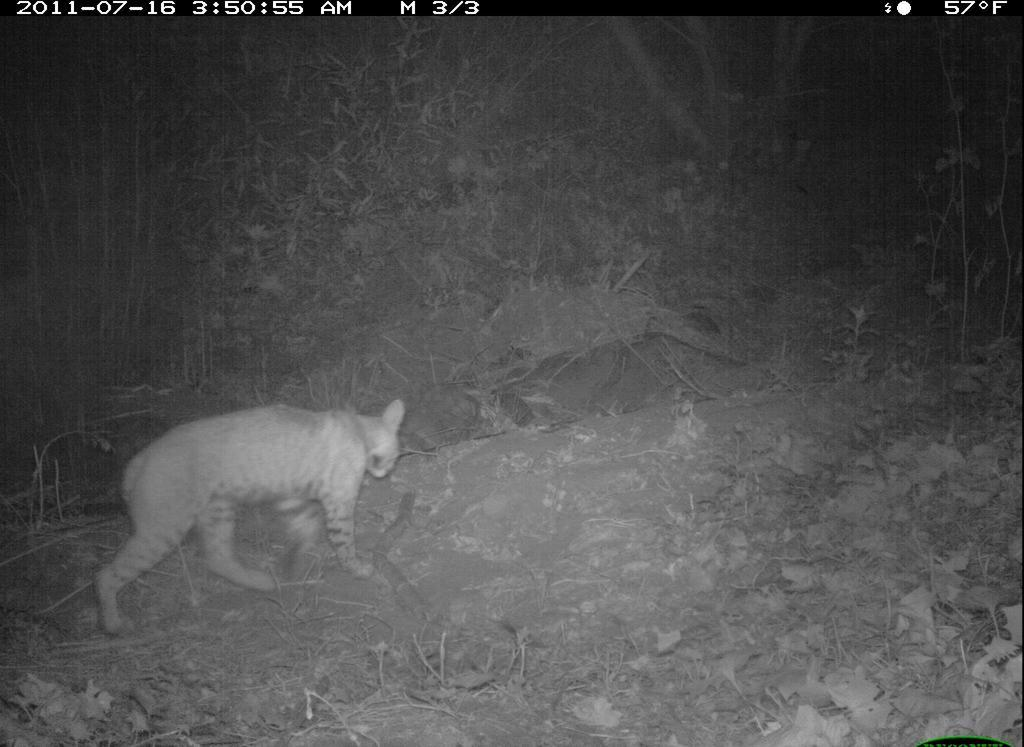bobcat: (77, 382, 429, 652)
